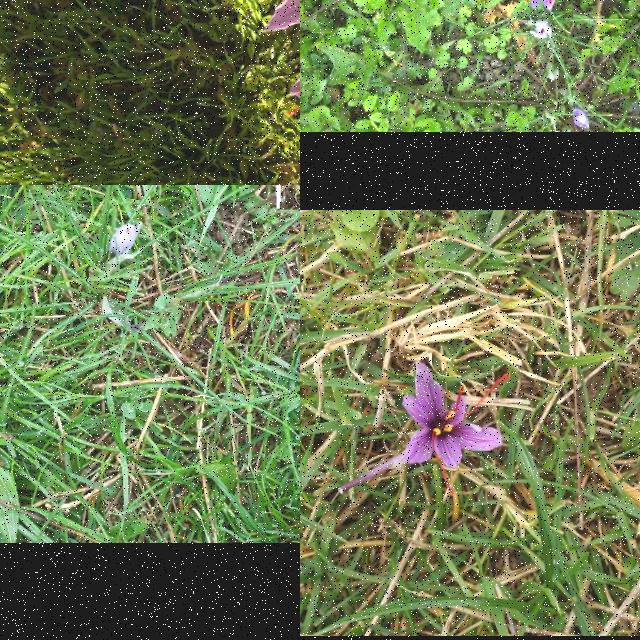flower: (401, 361, 511, 497), (110, 225, 138, 253), (530, 21, 552, 41), (571, 108, 589, 132)
